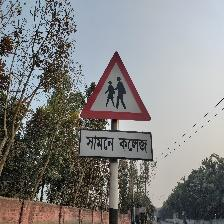College-in-front: (65, 44, 165, 160)
